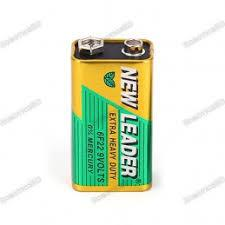9V Battery: (70, 36, 153, 194)
